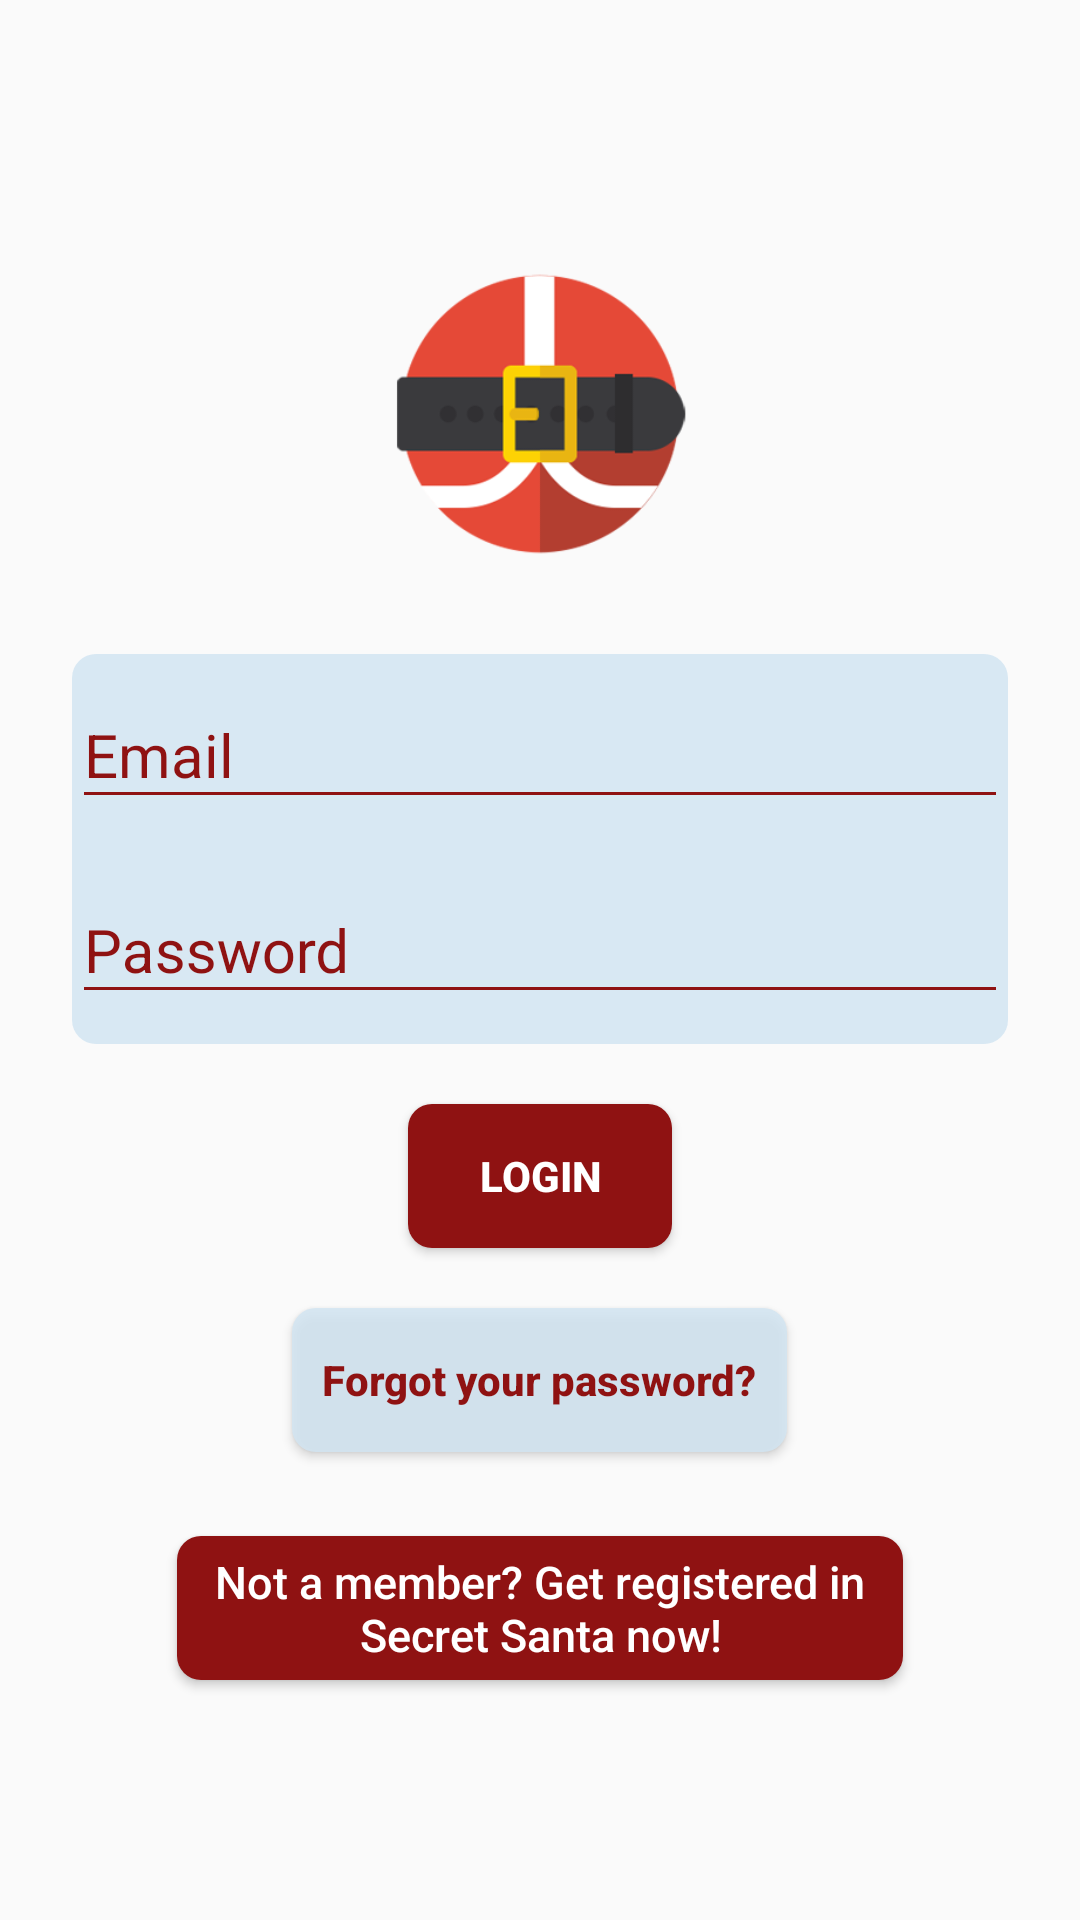

Where icons sit on this 1080px×1920px app screen, as (x1, y1, x2, y2):
santaa: (397, 275, 686, 554)
